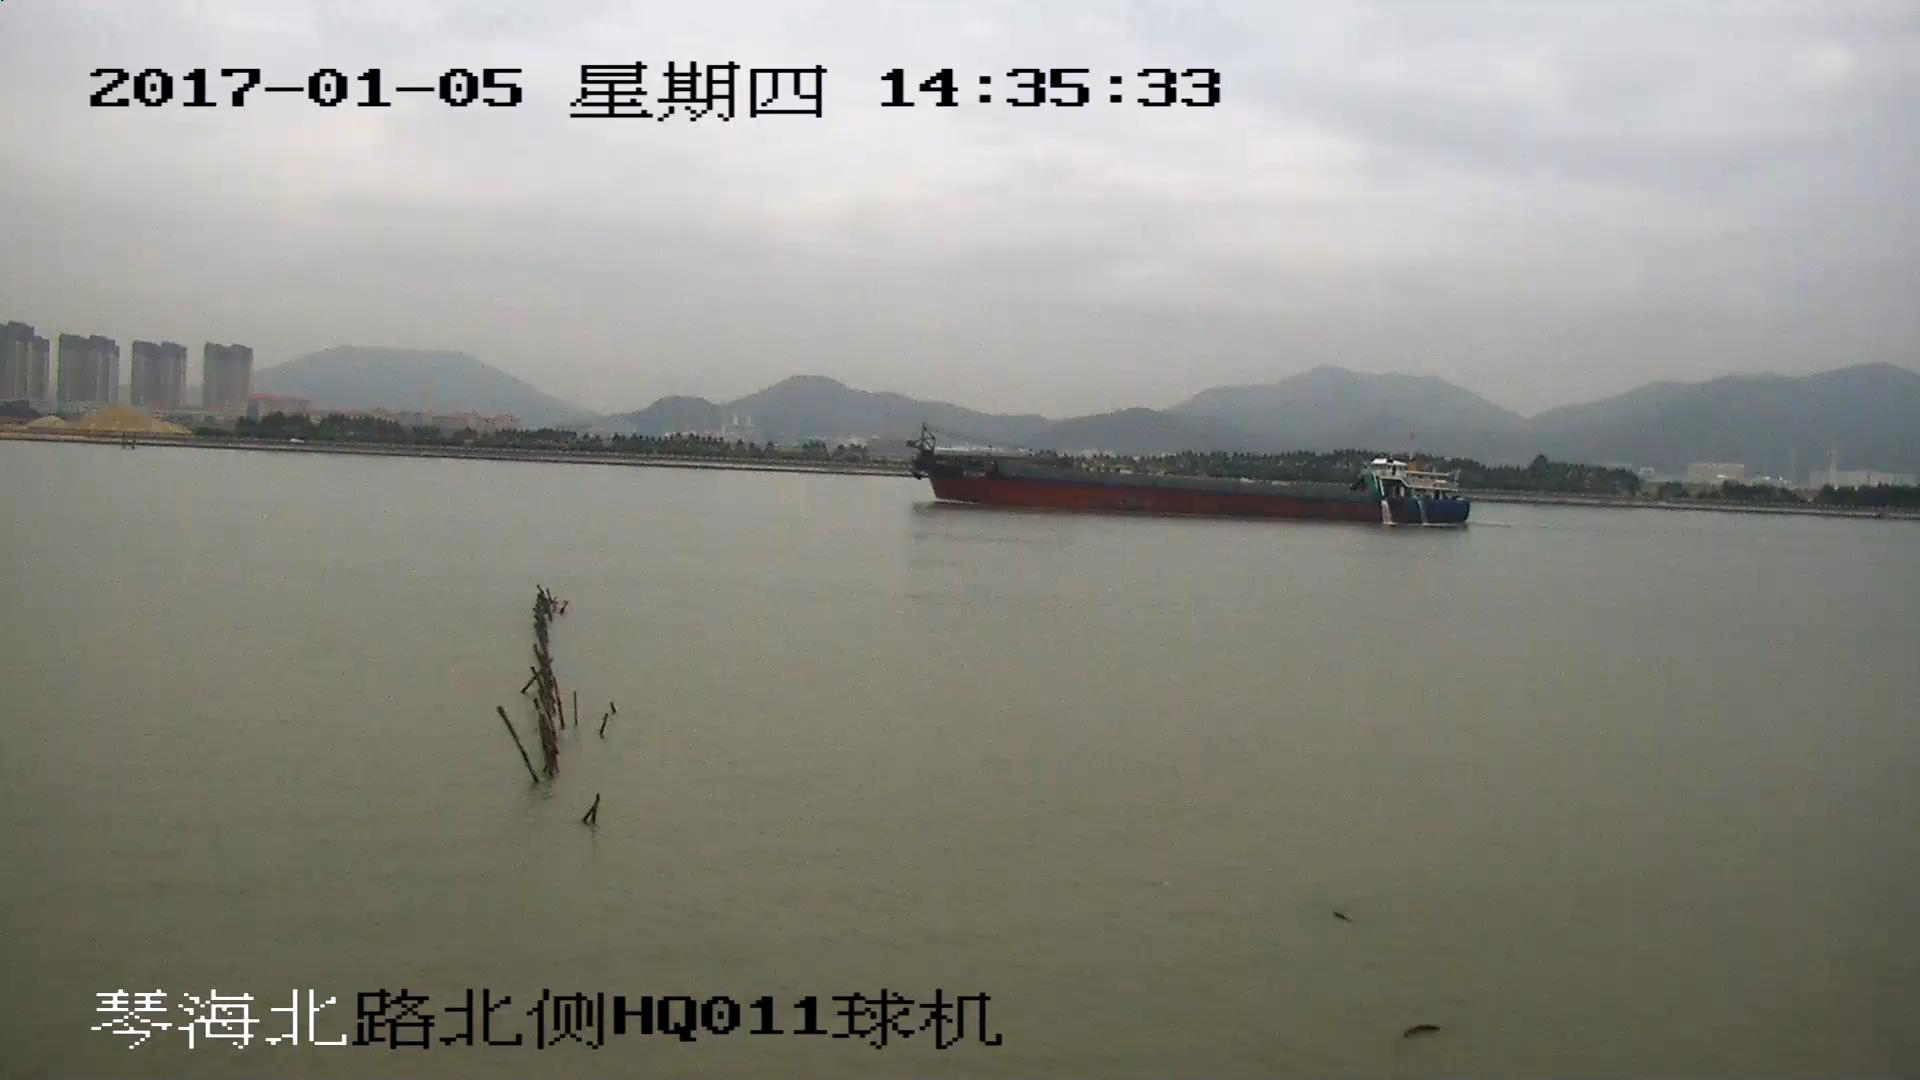bulk cargo carrier: (903, 426, 1469, 527)
